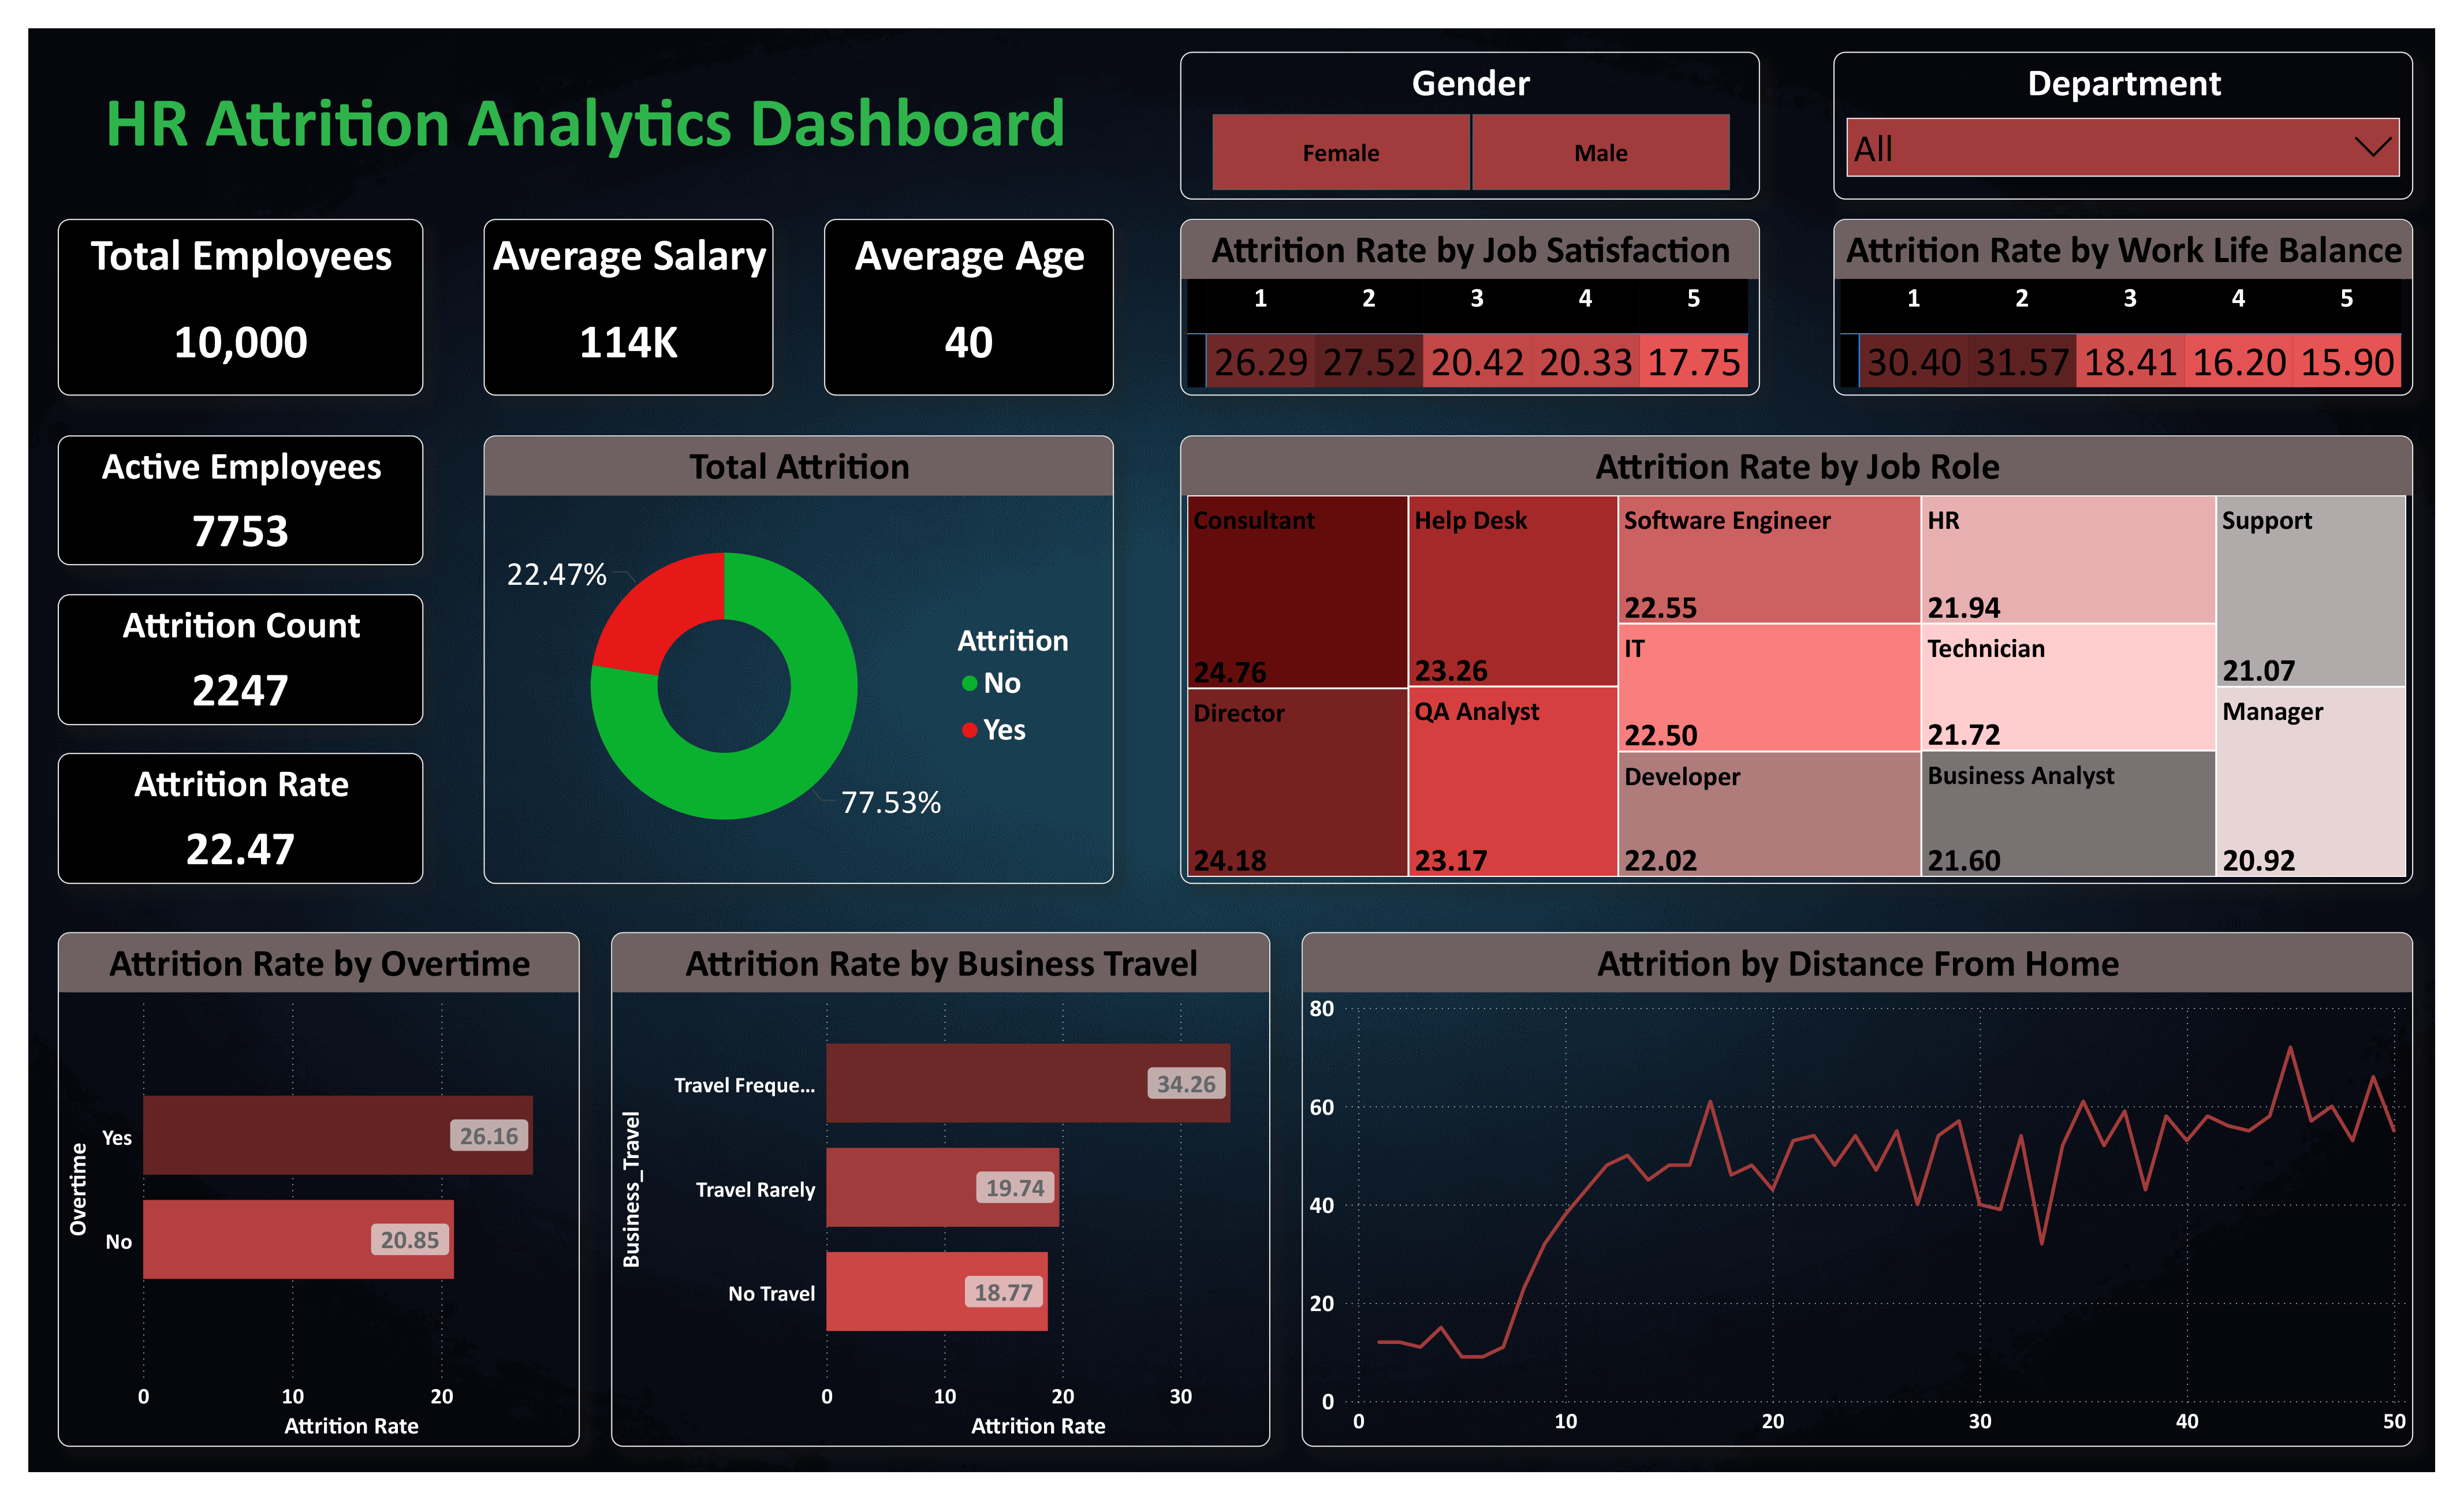

What the dashboard file says about the page in this screenshot:
{"tool":"powerbi","page":{"name":"Page 1","canvas":[2000,1200],"ordinal":0},"visuals":[{"type":"card","title":"Total Employees","fields":{"Values":["CountNonNull(FINAL DATASET.Employee_ID)"]},"box":[23.6,158.3,304.7,146.5],"z":0},{"type":"card","title":"Attrition Count","fields":{"Values":["CountNonNull(FINAL DATASET.Attrition)"]},"box":[23.6,470.1,304.7,108.7],"z":1000},{"type":"card","title":"Active Employees","fields":{"Values":["CountNonNull(FINAL DATASET.Attrition)"]},"box":[23.6,337.8,304.7,108.7],"z":2000},{"type":"card","title":"Attrition Rate","fields":{"Values":["FINAL DATASET.Attrition_Rate"]},"box":[23.6,602.4,304.7,108.7],"z":3000},{"type":"donutChart","title":"Total Attrition","fields":{"Category":["FINAL DATASET.Attrition"],"Y":["CountNonNull(FINAL DATASET.Attrition)"]},"box":[378,337.8,524.4,373.2],"z":4000},{"type":"treemap","title":"Attrition Rate by Job Role","fields":{"Values":["FINAL DATASET.Attrition_Rate"],"Group":["FINAL DATASET.Job_Role"]},"box":[956.7,337.8,1025.2,373.2],"z":5000},{"type":"lineChart","title":"Attrition by Distance From Home","fields":{"Y":["FINAL DATASET.Attrition_Yes"],"Category":["FINAL DATASET.Distance_From_Home"]},"box":[1058.3,751.2,923.6,427.6],"z":6000},{"type":"barChart","title":"Attrition Rate by Overtime","fields":{"Category":["FINAL DATASET.Overtime"],"Y":["FINAL DATASET.Attrition_Rate"]},"box":[23.6,751.2,434.6,427.6],"z":7000},{"type":"pivotTable","title":"Attrition Rate by Job Satisfaction","fields":{"Columns":["FINAL DATASET.Job_Satisfaction"],"Values":["FINAL DATASET.Attrition_Rate"]},"box":[956.7,158.3,481.9,146.5],"z":8000},{"type":"pivotTable","title":"Attrition Rate by Work Life Balance","fields":{"Values":["FINAL DATASET.Attrition_Rate"],"Columns":["FINAL DATASET.Work_life_balance"]},"box":[1500,158.3,481.9,146.5],"z":9000},{"type":"barChart","title":"Attrition Rate by Business Travel","fields":{"Category":["FINAL DATASET.Business_Travel"],"Y":["FINAL DATASET.Attrition_Rate"]},"box":[484.3,751.2,548,427.6],"z":10000},{"type":"textbox","box":[23.6,18.9,878.7,111],"z":11000},{"type":"slicer","title":"Gender","fields":{"Values":["FINAL DATASET.Gender"]},"box":[956.7,18.9,481.9,122.8],"z":12000},{"type":"slicer","title":"Department","fields":{"Values":["FINAL DATASET.Department"]},"box":[1500,18.9,481.9,122.8],"z":13000},{"type":"card","title":"Average Salary","fields":{"Values":["Avg(FINAL DATASET.Salary)"]},"box":[378,158.3,240.9,146.5],"z":14000},{"type":"card","title":"Average Age","fields":{"Values":["Avg(FINAL DATASET.Age)"]},"box":[661.4,158.3,240.9,146.5],"z":15000}]}

Visuals, with their boxes in screenshot pixels (x1, y1, x2, y2):
"Total Employees" card: <box>131,269,487,440</box>
"Attrition Count" card: <box>131,634,487,761</box>
"Active Employees" card: <box>131,479,487,607</box>
"Attrition Rate" card: <box>131,789,487,917</box>
"Total Attrition" donutChart: <box>546,479,1160,916</box>
"Attrition Rate by Job Role" treemap: <box>1224,479,2425,916</box>
"Attrition by Distance From Home" lineChart: <box>1343,964,2425,1465</box>
"Attrition Rate by Overtime" barChart: <box>131,964,640,1465</box>
"Attrition Rate by Job Satisfaction" pivotTable: <box>1224,269,1788,440</box>
"Attrition Rate by Work Life Balance" pivotTable: <box>1861,269,2425,440</box>
"Attrition Rate by Business Travel" barChart: <box>670,964,1313,1465</box>
textbox: <box>131,106,1160,236</box>
"Gender" slicer: <box>1224,106,1788,249</box>
"Department" slicer: <box>1861,106,2425,249</box>
"Average Salary" card: <box>546,269,828,440</box>
"Average Age" card: <box>878,269,1160,440</box>
